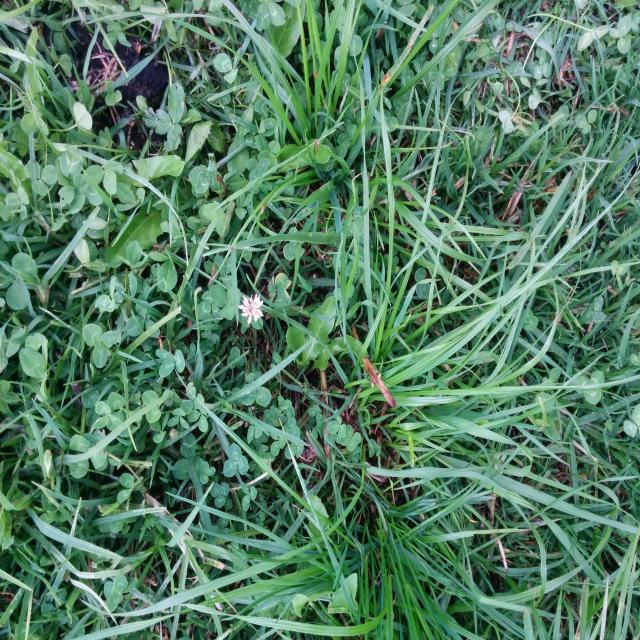Four Leaf Clover: (340, 424, 361, 451)
